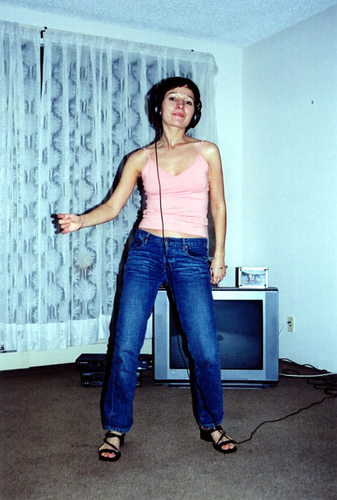without_mask: (157, 88, 201, 131)
